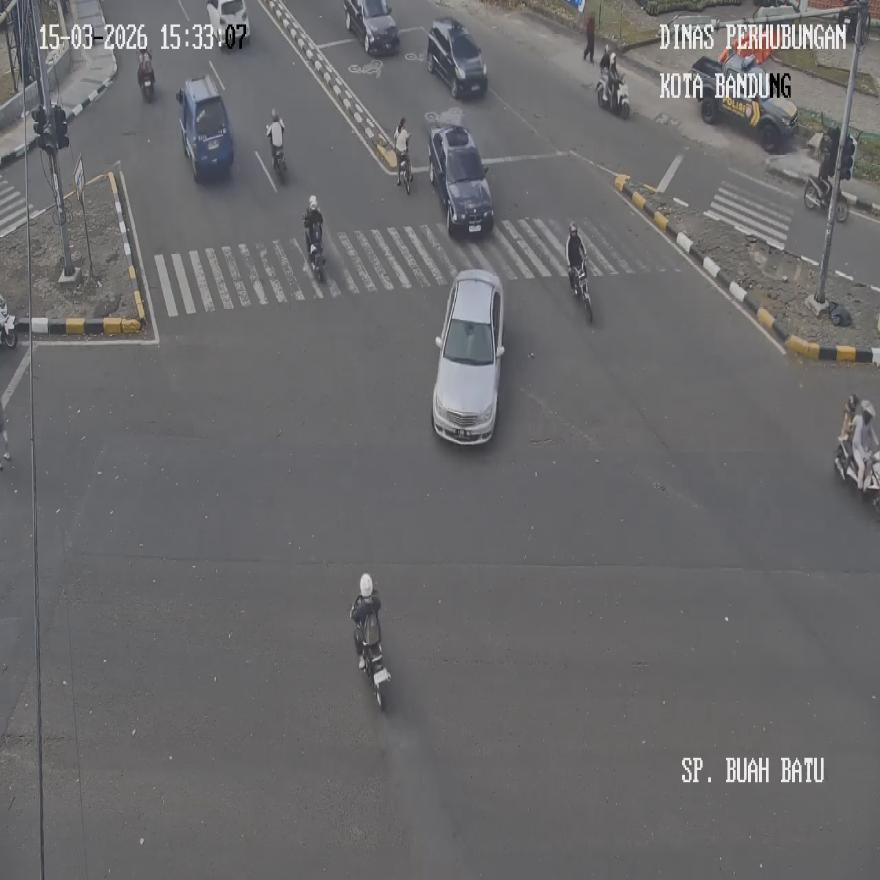Motor: (432, 268, 504, 442), (428, 123, 494, 236), (176, 73, 233, 181), (426, 16, 487, 99), (344, 0, 399, 55), (206, 0, 248, 49)
Truk: (355, 609, 391, 710), (834, 439, 880, 517), (804, 172, 847, 222), (596, 69, 629, 118), (567, 222, 587, 294), (265, 121, 286, 183), (570, 263, 592, 321), (394, 128, 412, 192), (0, 295, 17, 347), (138, 51, 155, 102), (308, 236, 326, 282)
